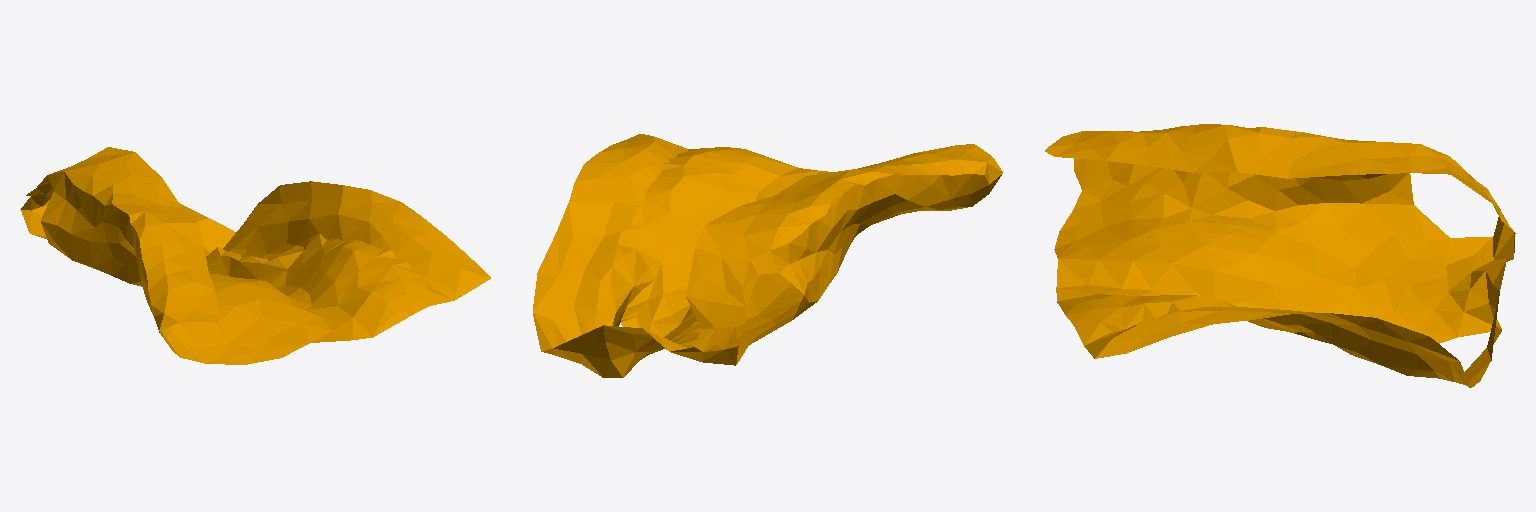
URDF robot description (init):
<?xml version='1.0' encoding='utf-8'?>
<robot name="init">
<link name="link_0"><inertial><mass value="1.0" /><origin rpy="0 0 0" xyz="0.000000 0.000000 0.000000" /><inertia ixx="1.0" ixy="0.0" ixz="0.0" iyy="1.0" iyz="0.0" izz="1.0" /></inertial><visual><origin rpy="0 0 0" xyz="0.000000 0.000000 0.000000" /><geometry><mesh filename="./clothHuman/cloth/974.obj" /></geometry></visual><collision><origin rpy="0 0 0" xyz="0.000000 0.000000 0.000000" /><geometry><mesh filename="./clothHuman/cloth/974.obj" /></geometry></collision></link></robot>

--- What the picture shows (computed from the rendered views, not written in the file) ---
3 views of the same robot in one strip: view 1: azimuth 30°, elevation 25°; view 2: azimuth 150°, elevation 25°; view 3: azimuth 270°, elevation 25° (orthographic).
Robot: init — 1 links, 0 joints (none); root link link_0; default pose: all joints at 0.
Visible links, largest first — view 1: link_0; view 2: link_0; view 3: link_0.
Boxes of the visible links, x1,y1,x2,y2 form: link_0: [20, 147, 490, 364]; link_0: [533, 134, 1002, 377]; link_0: [1045, 124, 1515, 387].
Bounding box of the posed robot: 3.44 × 3.8 × 1.51 m (x, y, z).
Meshes: 1 distinct files referenced, 1 mesh visuals loaded (1 OBJ).